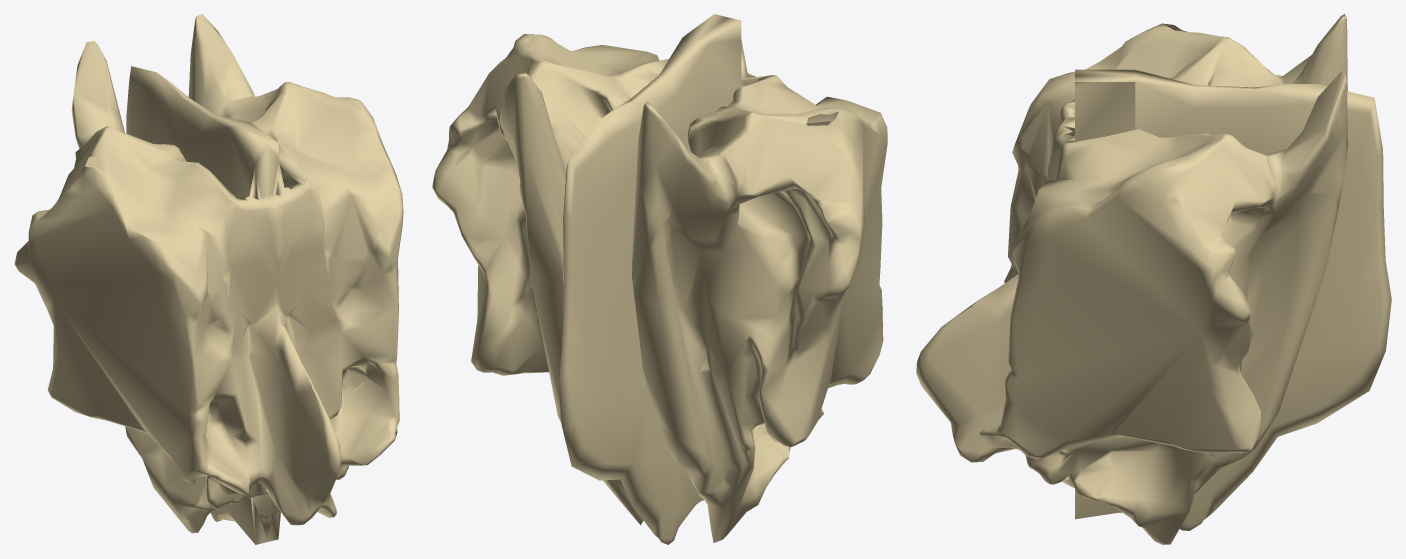
The picture shows the model from 3 angles, left to right: view 1: azimuth 30°, elevation 25°; view 2: azimuth 150°, elevation 25°; view 3: azimuth 270°, elevation 25°; orthographic projection. The views are drawn at different scales.
Visible parts, largest first — view 1: 筛骨; view 2: 筛骨; view 3: 筛骨.
Part boxes in pixels (bbox=[...]): 筛骨: bbox=[14, 14, 403, 544]; 筛骨: bbox=[432, 14, 887, 544]; 筛骨: bbox=[916, 14, 1391, 544].
Size of the model in its own units: 0.0552 by 0.0656 by 0.0581.
